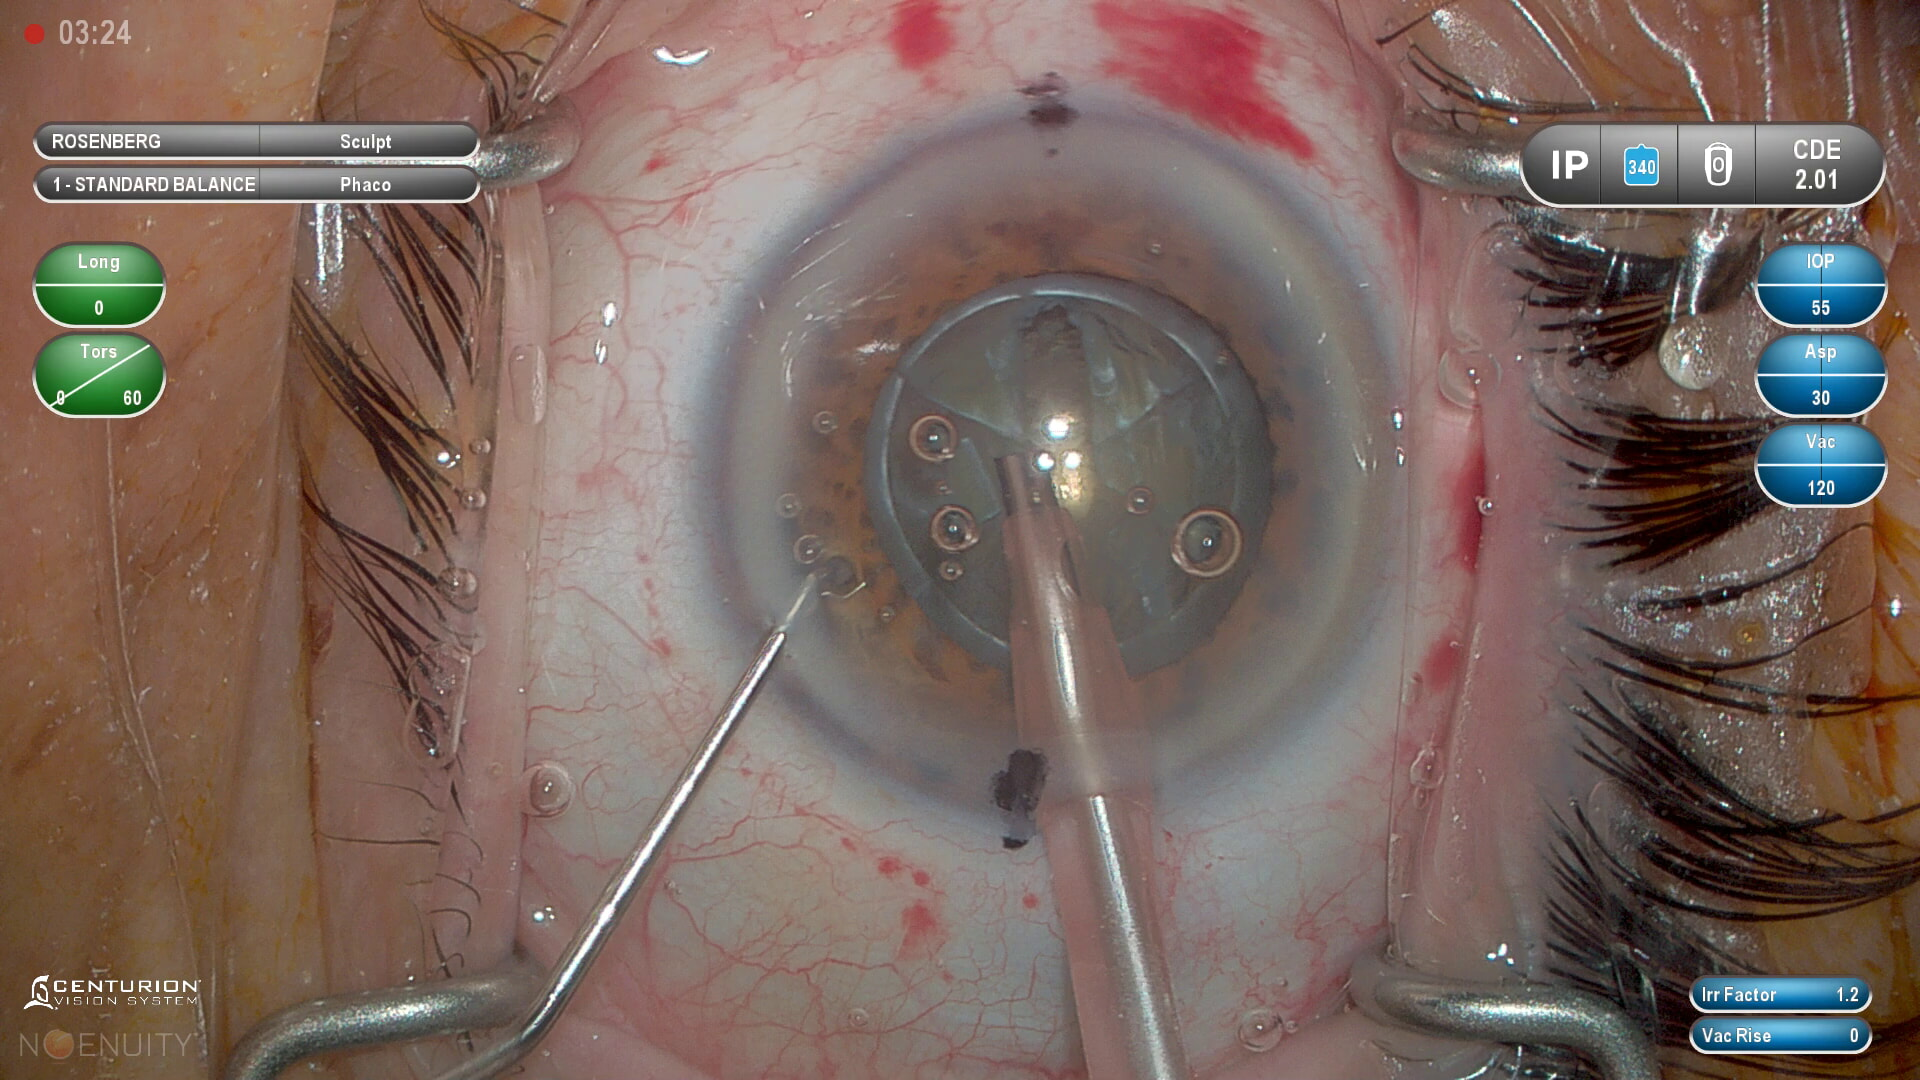iris: (749, 160, 1354, 753)
pupil: (860, 272, 1272, 683)
